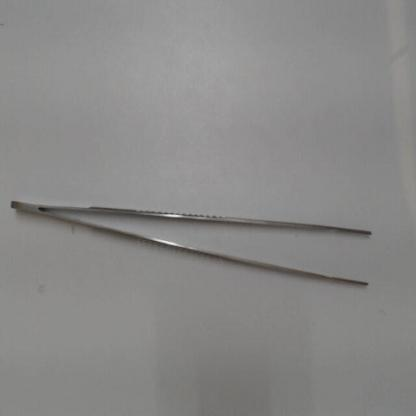DeBakey Dissector: (5, 186, 379, 301)
